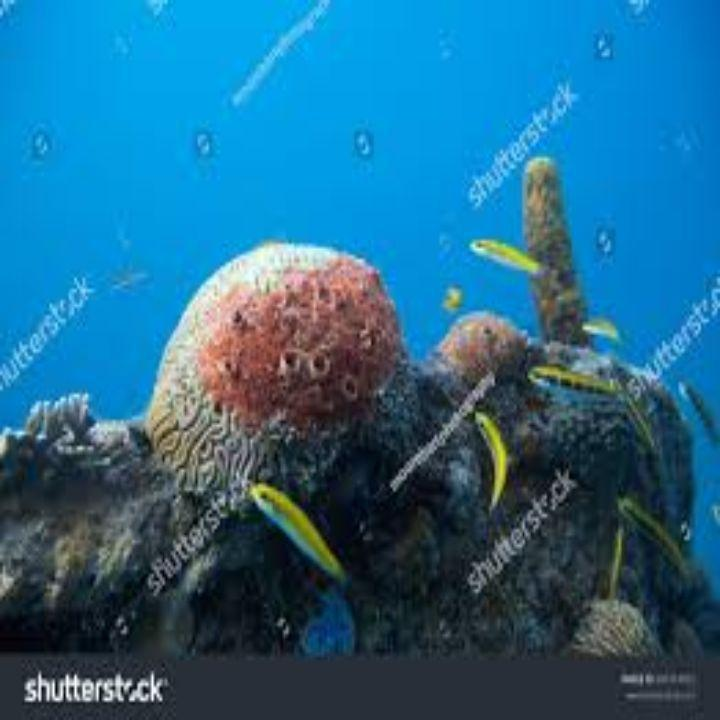Band disease: (180, 244, 417, 449)
